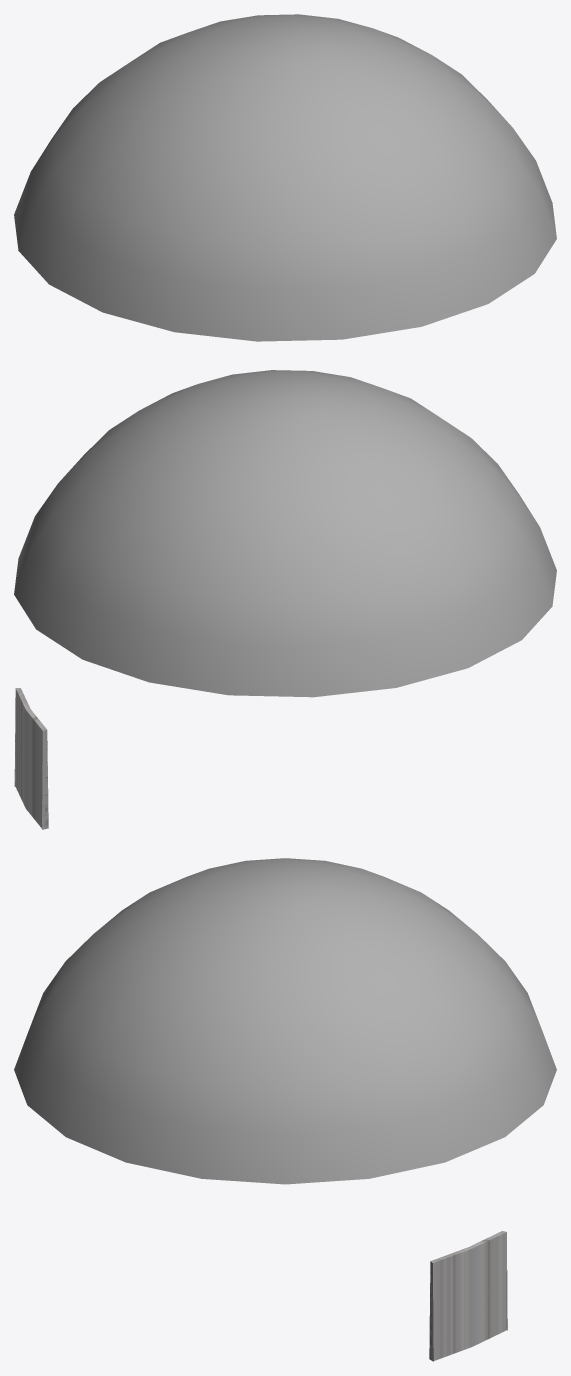
The model's file is Light_Bloacker 1.fbx.
3 renders of one model, top to bottom at view 1: azimuth 30°, elevation 25°; view 2: azimuth 150°, elevation 25°; view 3: azimuth 270°, elevation 25°, orthographic.
Visible parts, largest first — view 1: Chimney_Light_block; view 2: Chimney_Light_block; view 3: Chimney_Light_block.
Part boxes in pixels (x1,y1,x2,y2): Chimney_Light_block: (14,14,556,341); Chimney_Light_block: (14,370,556,829); Chimney_Light_block: (14,858,556,1361).
Bounding box in the file's own units: 97.98 × 76.01 × 97.98.
